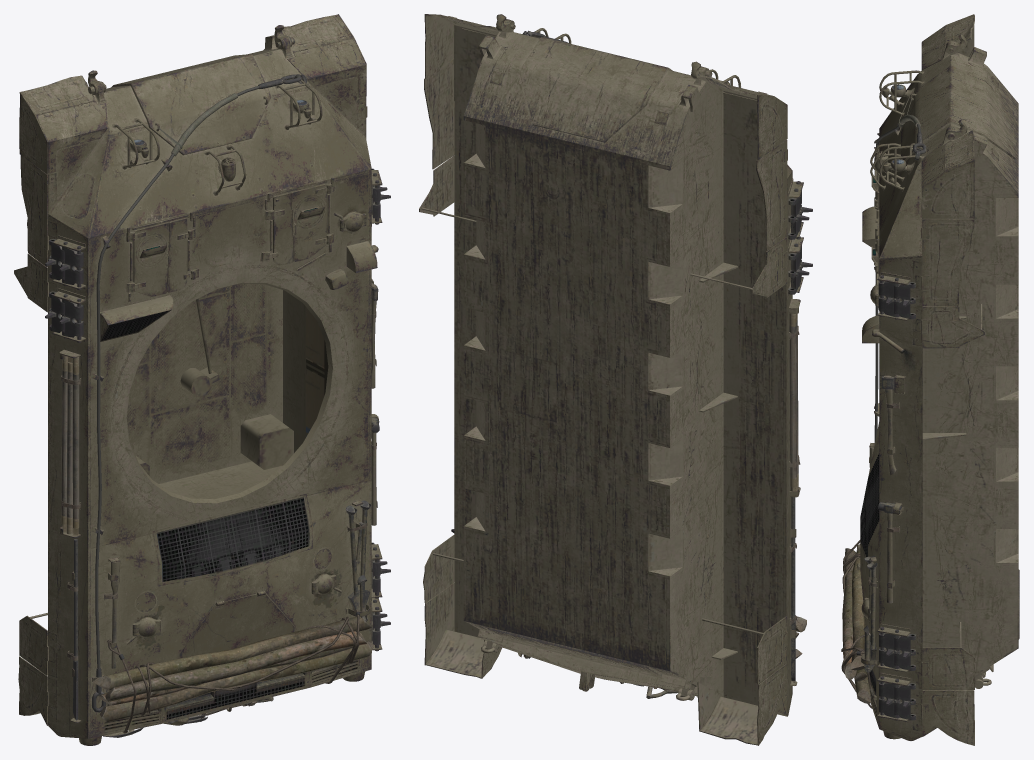
The model's file is Hull.glb.
3 renders of one model, left to right at view 1: azimuth 30°, elevation 25°; view 2: azimuth 150°, elevation 25°; view 3: azimuth 270°, elevation 25°, orthographic. The views are drawn at different scales.
Visible parts, largest first — view 1: set_0_group_0, set_0_group_1; view 2: set_0_group_0; view 3: set_0_group_0, set_0_group_1.
Boxes of the visible parts, bbox=[...] form: set_0_group_0: bbox=[14, 14, 390, 745]; set_0_group_1: bbox=[92, 609, 374, 733]; set_0_group_0: bbox=[419, 14, 812, 745]; set_0_group_0: bbox=[857, 14, 1019, 745]; set_0_group_1: bbox=[841, 540, 872, 708].
Size of the model in its own units: 3.08 by 5.53 by 1.48.
2 materials, 2 textured.
